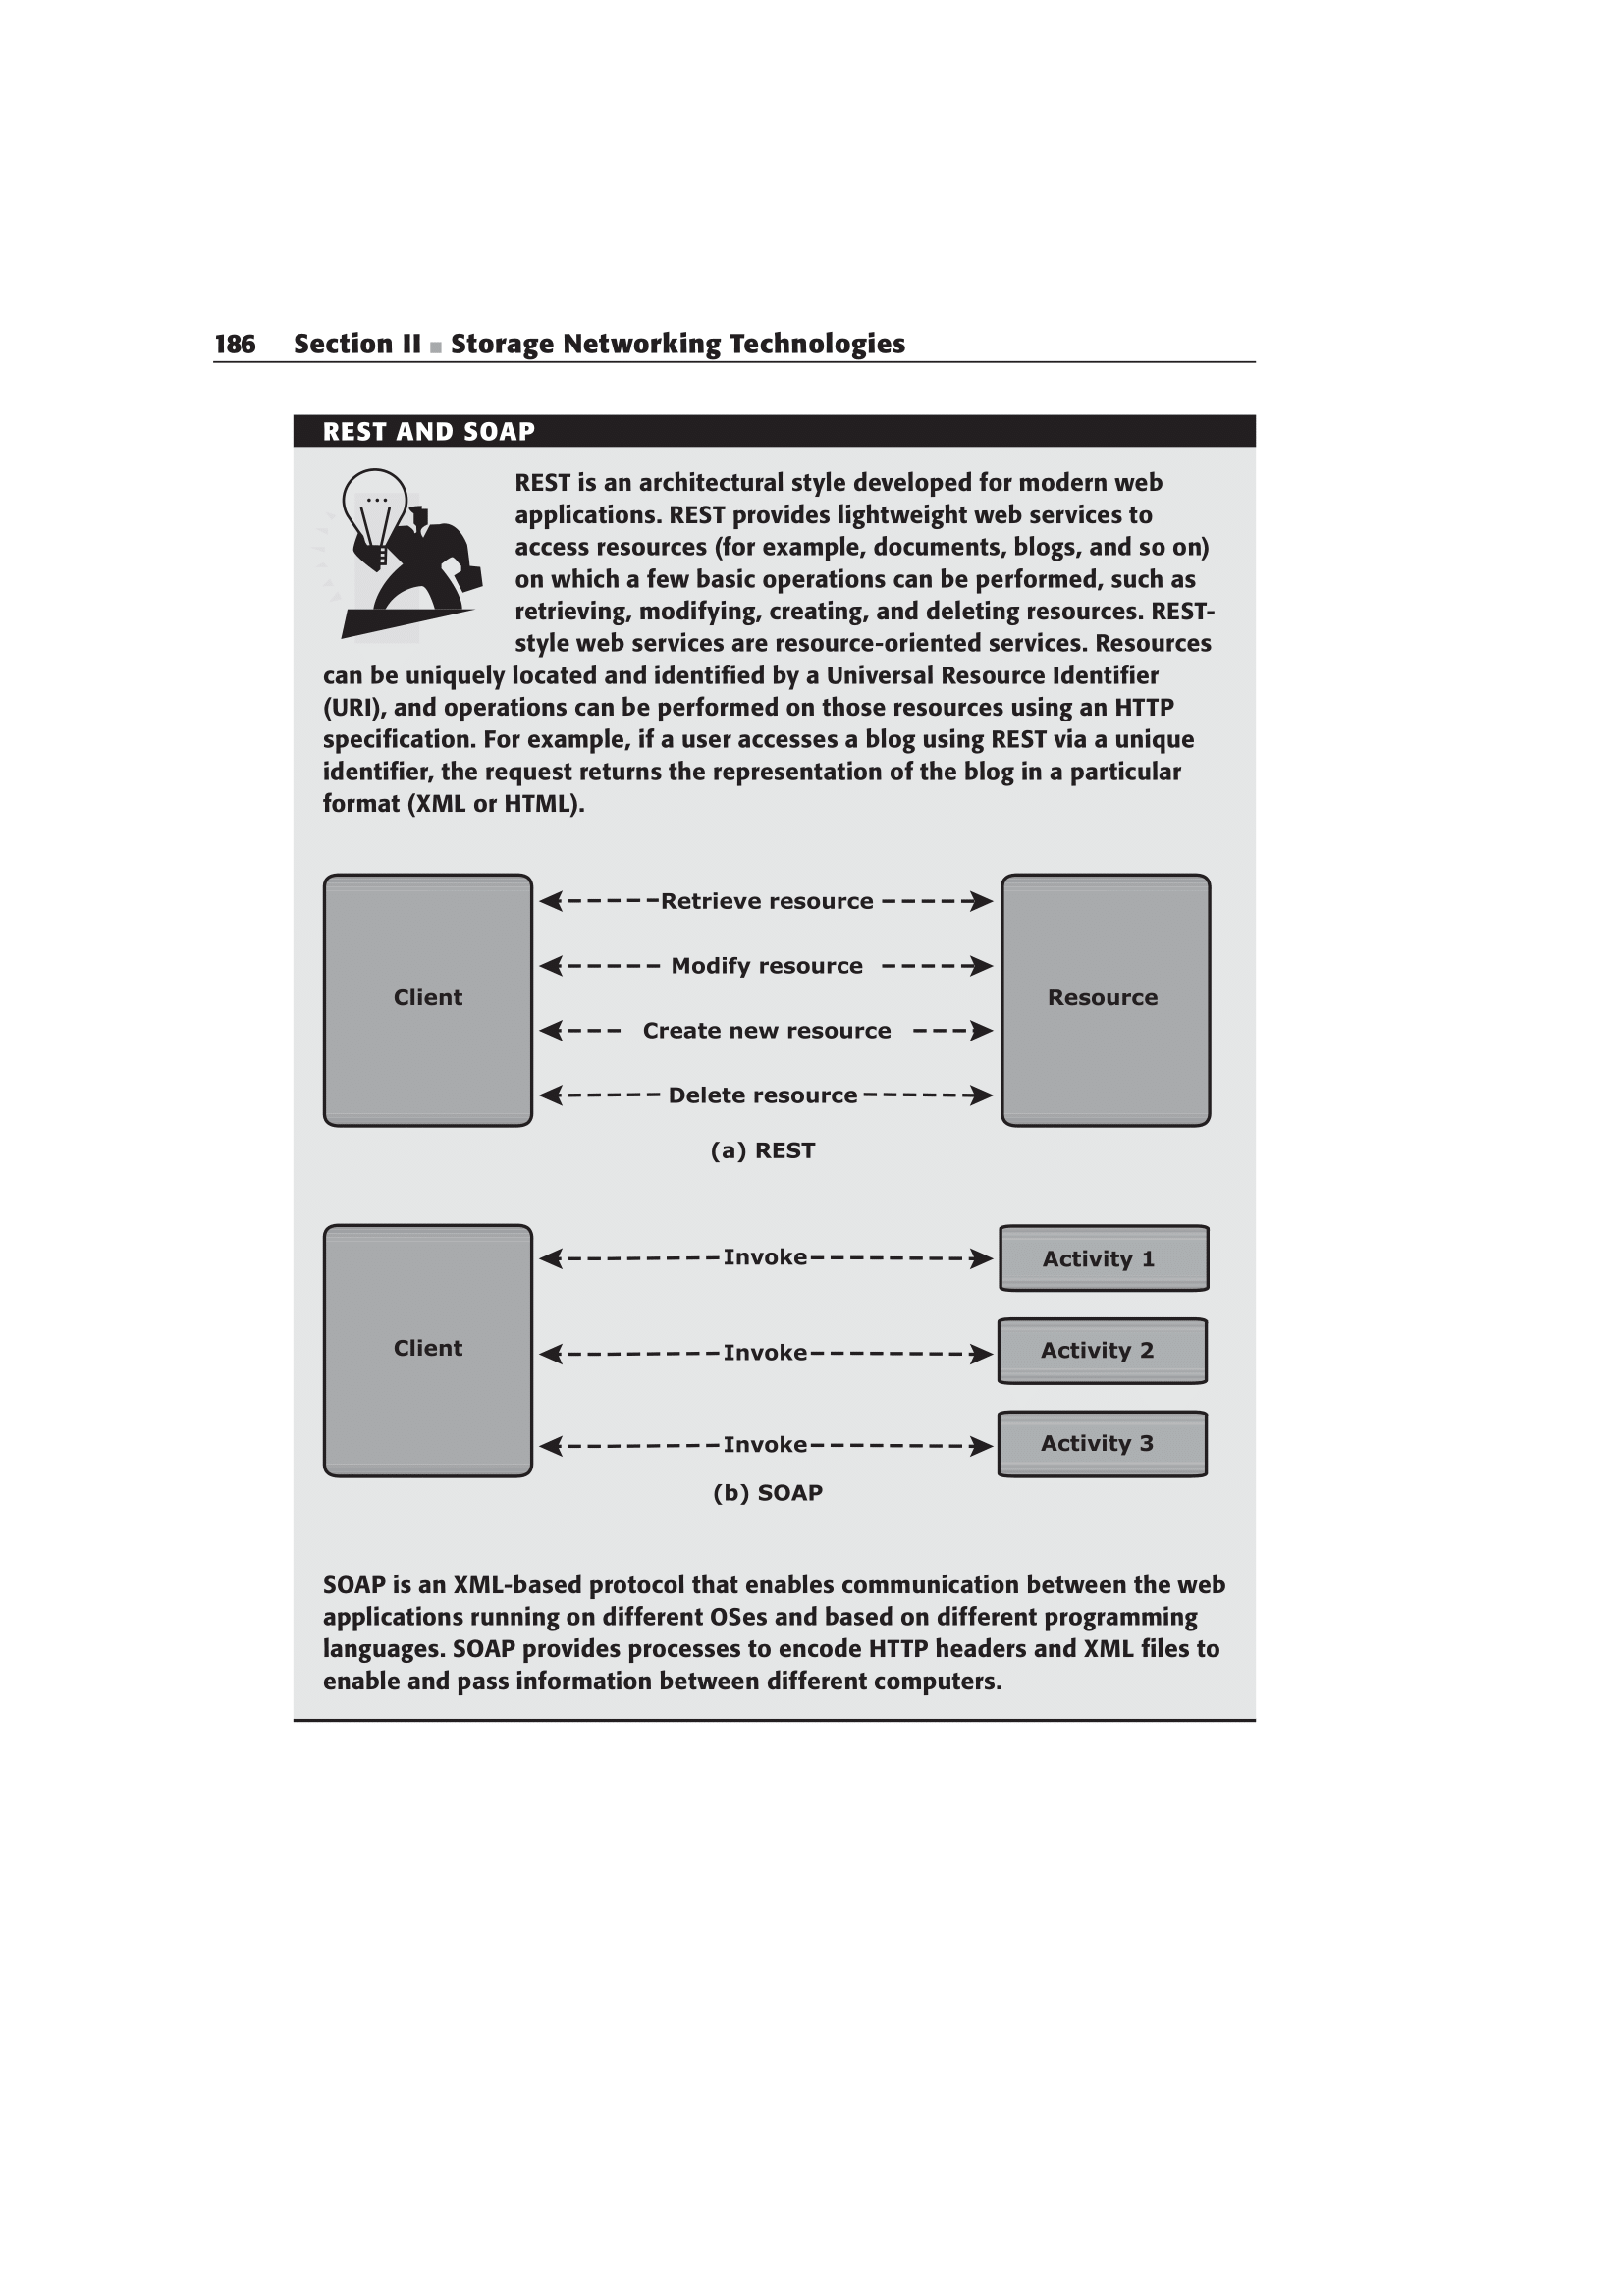Image: (300, 843, 1266, 1181), (297, 1211, 1252, 1529), (330, 448, 499, 662)
Paragraph: (285, 1546, 1252, 1713), (297, 662, 1261, 816), (502, 462, 1224, 658), (63, 277, 973, 365), (267, 402, 636, 448)
